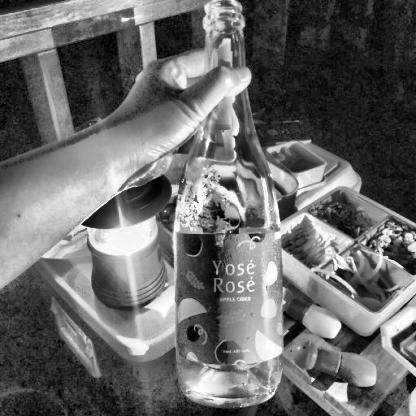yoserose: (176, 233, 284, 364)
